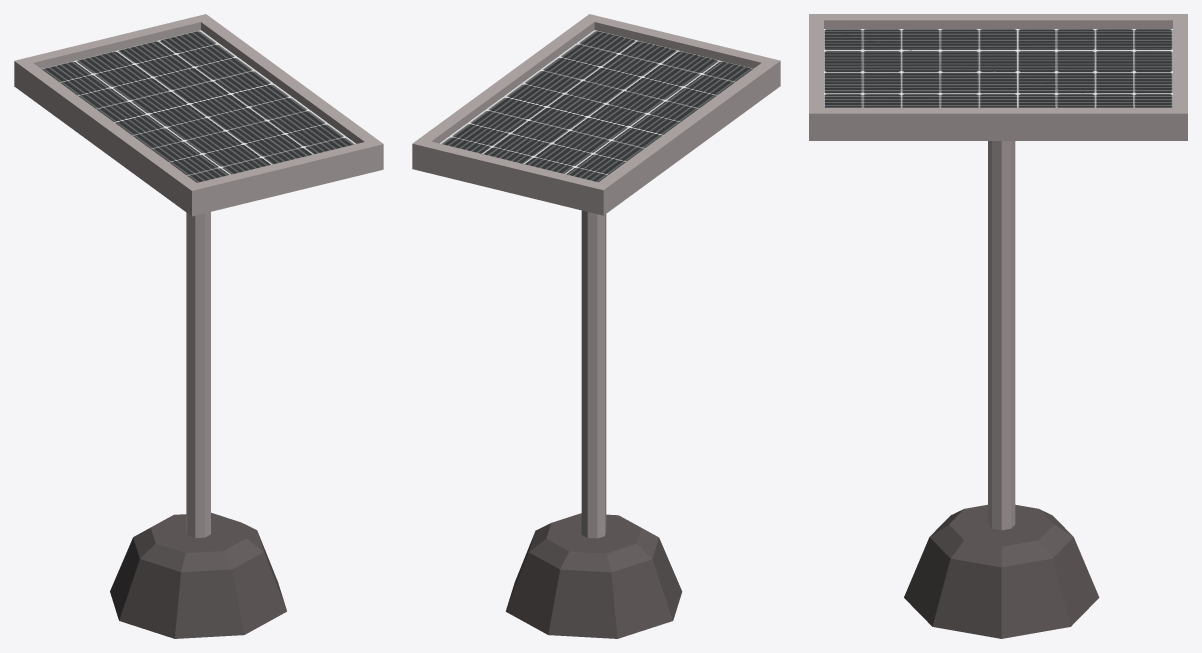
Rendered from Base y Panel Solar.fbx.
3 renders of one model, left to right at view 1: azimuth 30°, elevation 25°; view 2: azimuth 150°, elevation 25°; view 3: azimuth 270°, elevation 25°, orthographic. The views are drawn at different scales.
Visible parts, largest first — view 1: Panel Solar, Base; view 2: Panel Solar, Base; view 3: Panel Solar, Base.
Boxes of the visible parts, x1,y1,x2,y2 form: Panel Solar: [14, 14, 383, 216]; Base: [110, 212, 286, 638]; Panel Solar: [412, 14, 780, 215]; Base: [505, 210, 682, 638]; Panel Solar: [809, 14, 1187, 140]; Base: [904, 141, 1099, 638].
Size of the model in its own units: 50.25 by 125 by 80.6.
Materials: 2 (2 with a texture image).
